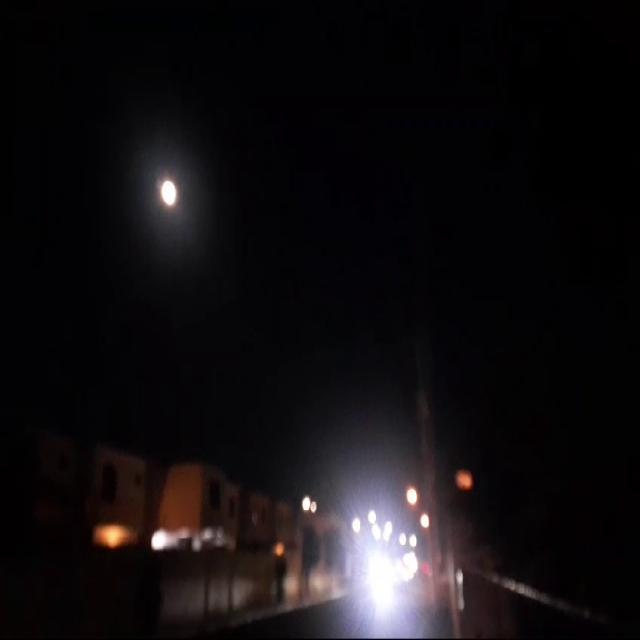moon: (163, 178, 182, 212)
